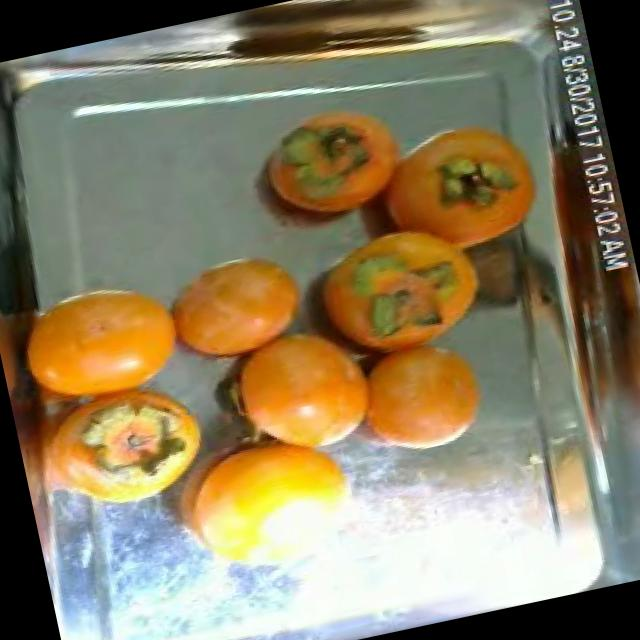Fruit: (18, 364, 234, 538), (0, 252, 204, 432), (371, 96, 569, 274), (229, 86, 432, 252), (323, 312, 508, 478), (138, 228, 329, 386)
